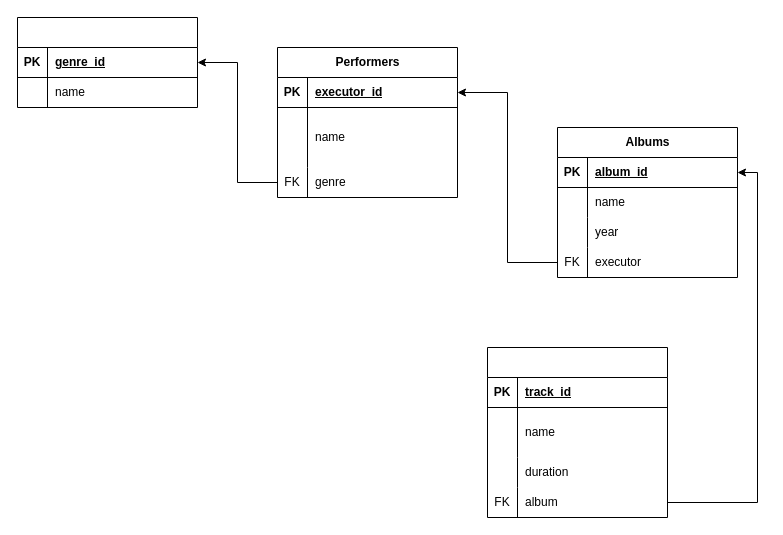
This 783x535 diagram has some shape labels left out. Here are the shapes that lost their labels. From the top down, the box of each, then its label:
(16, 16, 198, 108): Genres
(486, 346, 668, 518): Tracks
